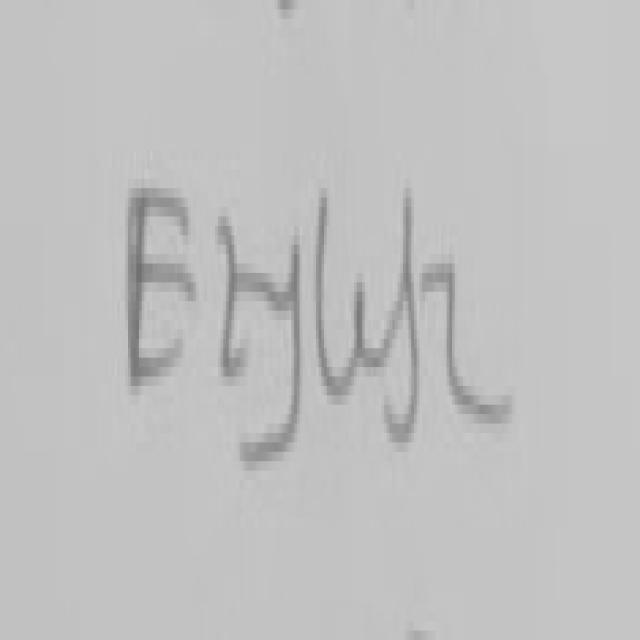E: (128, 188, 196, 386)
e: (425, 264, 512, 424)
f: (381, 180, 418, 441)
i: (350, 270, 381, 372)
l: (319, 198, 357, 395)
y: (242, 245, 300, 461), (240, 273, 253, 292)
z: (218, 216, 242, 372)
